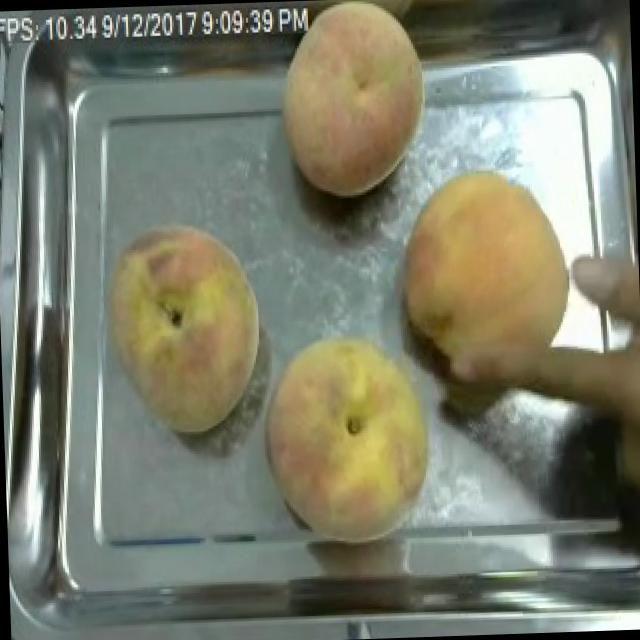Fruit: (388, 158, 582, 396), (254, 320, 448, 550), (92, 212, 270, 442), (267, 0, 438, 207)
